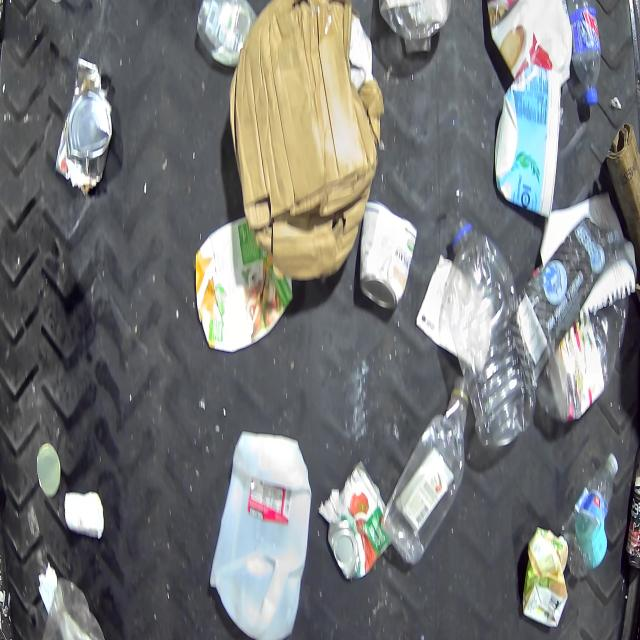can: (326, 459, 391, 581), (356, 202, 416, 314), (58, 72, 112, 192)
milk_jug: (210, 429, 310, 640)
non_white_jug: (485, 0, 573, 84)
plastic_bottle: (449, 217, 539, 449), (386, 377, 472, 566), (544, 256, 634, 424), (563, 448, 621, 576), (566, 0, 604, 104), (625, 418, 640, 568)
